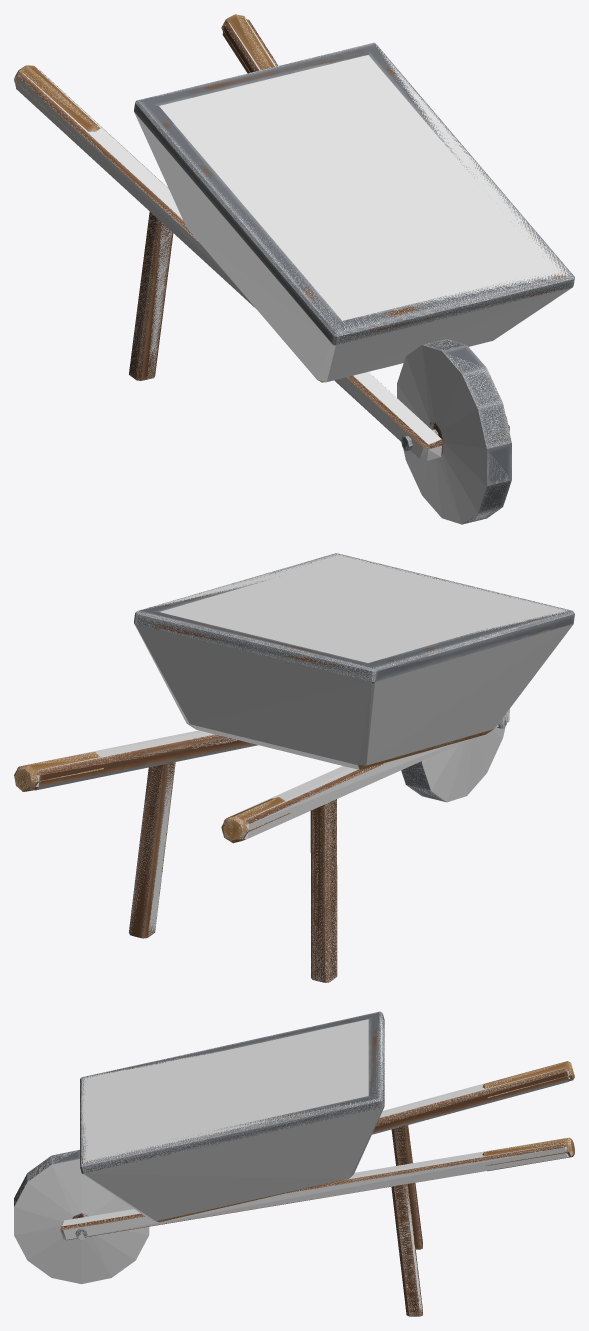
File: wheelbarrow.glb
3 renders of one model, top to bottom at view 1: azimuth 30°, elevation 25°; view 2: azimuth 150°, elevation 25°; view 3: azimuth 270°, elevation 25°, orthographic. The views are drawn at different scales.
Parts seen in each view (by area): view 1: COL_wheelbarrow_06, tray, COL_wheelbarrow_00, COL_wheelbarrow_05, wheel, leg_left, COL_wheelbarrow_08, handle_left, grip_left, grip_right, handle_right; view 2: COL_wheelbarrow_06, tray, leg_left, leg_right, COL_wheelbarrow_05, COL_wheelbarrow_00, handle_right, COL_wheelbarrow_08, COL_wheelbarrow_04, COL_wheelbarrow_07, grip_right, grip_left (+2 smaller); view 3: COL_wheelbarrow_06, COL_wheelbarrow_00, tray, COL_wheelbarrow_04, handle_left, leg_right, handle_right, COL_wheelbarrow_05, leg_left, COL_wheelbarrow_07, grip_right, grip_left (+1 smaller).
Boxes of the visible parts, box(x1,y1,x2,y2) form: COL_wheelbarrow_06: box(134, 43, 574, 382); tray: box(134, 42, 574, 382); COL_wheelbarrow_00: box(397, 339, 511, 524); COL_wheelbarrow_05: box(16, 69, 442, 460); wheel: box(422, 339, 511, 524); leg_left: box(129, 212, 172, 380); COL_wheelbarrow_08: box(129, 212, 173, 380); handle_left: box(17, 70, 443, 460); grip_left: box(14, 65, 100, 142); grip_right: box(221, 14, 274, 72); handle_right: box(222, 19, 509, 428); COL_wheelbarrow_06: box(134, 553, 573, 769); tray: box(134, 553, 574, 769); leg_left: box(310, 799, 337, 982); leg_right: box(129, 762, 175, 938); COL_wheelbarrow_05: box(223, 709, 509, 839); COL_wheelbarrow_00: box(403, 726, 505, 802); handle_right: box(35, 734, 252, 790); COL_wheelbarrow_08: box(311, 800, 337, 982); COL_wheelbarrow_04: box(17, 730, 258, 790); COL_wheelbarrow_07: box(129, 762, 174, 938); grip_right: box(14, 752, 103, 791); grip_left: box(221, 797, 290, 843); COL_wheelbarrow_06: box(80, 1012, 384, 1221); COL_wheelbarrow_00: box(14, 1151, 149, 1284); tray: box(80, 1011, 384, 1222); COL_wheelbarrow_04: box(60, 1138, 568, 1239); handle_left: box(373, 1068, 569, 1132); leg_right: box(391, 1184, 422, 1316); handle_right: box(60, 1144, 566, 1240); COL_wheelbarrow_05: box(372, 1062, 569, 1134); leg_left: box(391, 1125, 422, 1249); COL_wheelbarrow_07: box(392, 1185, 422, 1316); grip_right: box(482, 1137, 574, 1171); grip_left: box(482, 1061, 574, 1098).
Bounding box in the file's own units: 0.635 × 0.7512 × 1.7.
Materials: 3 (3 with a texture image).
